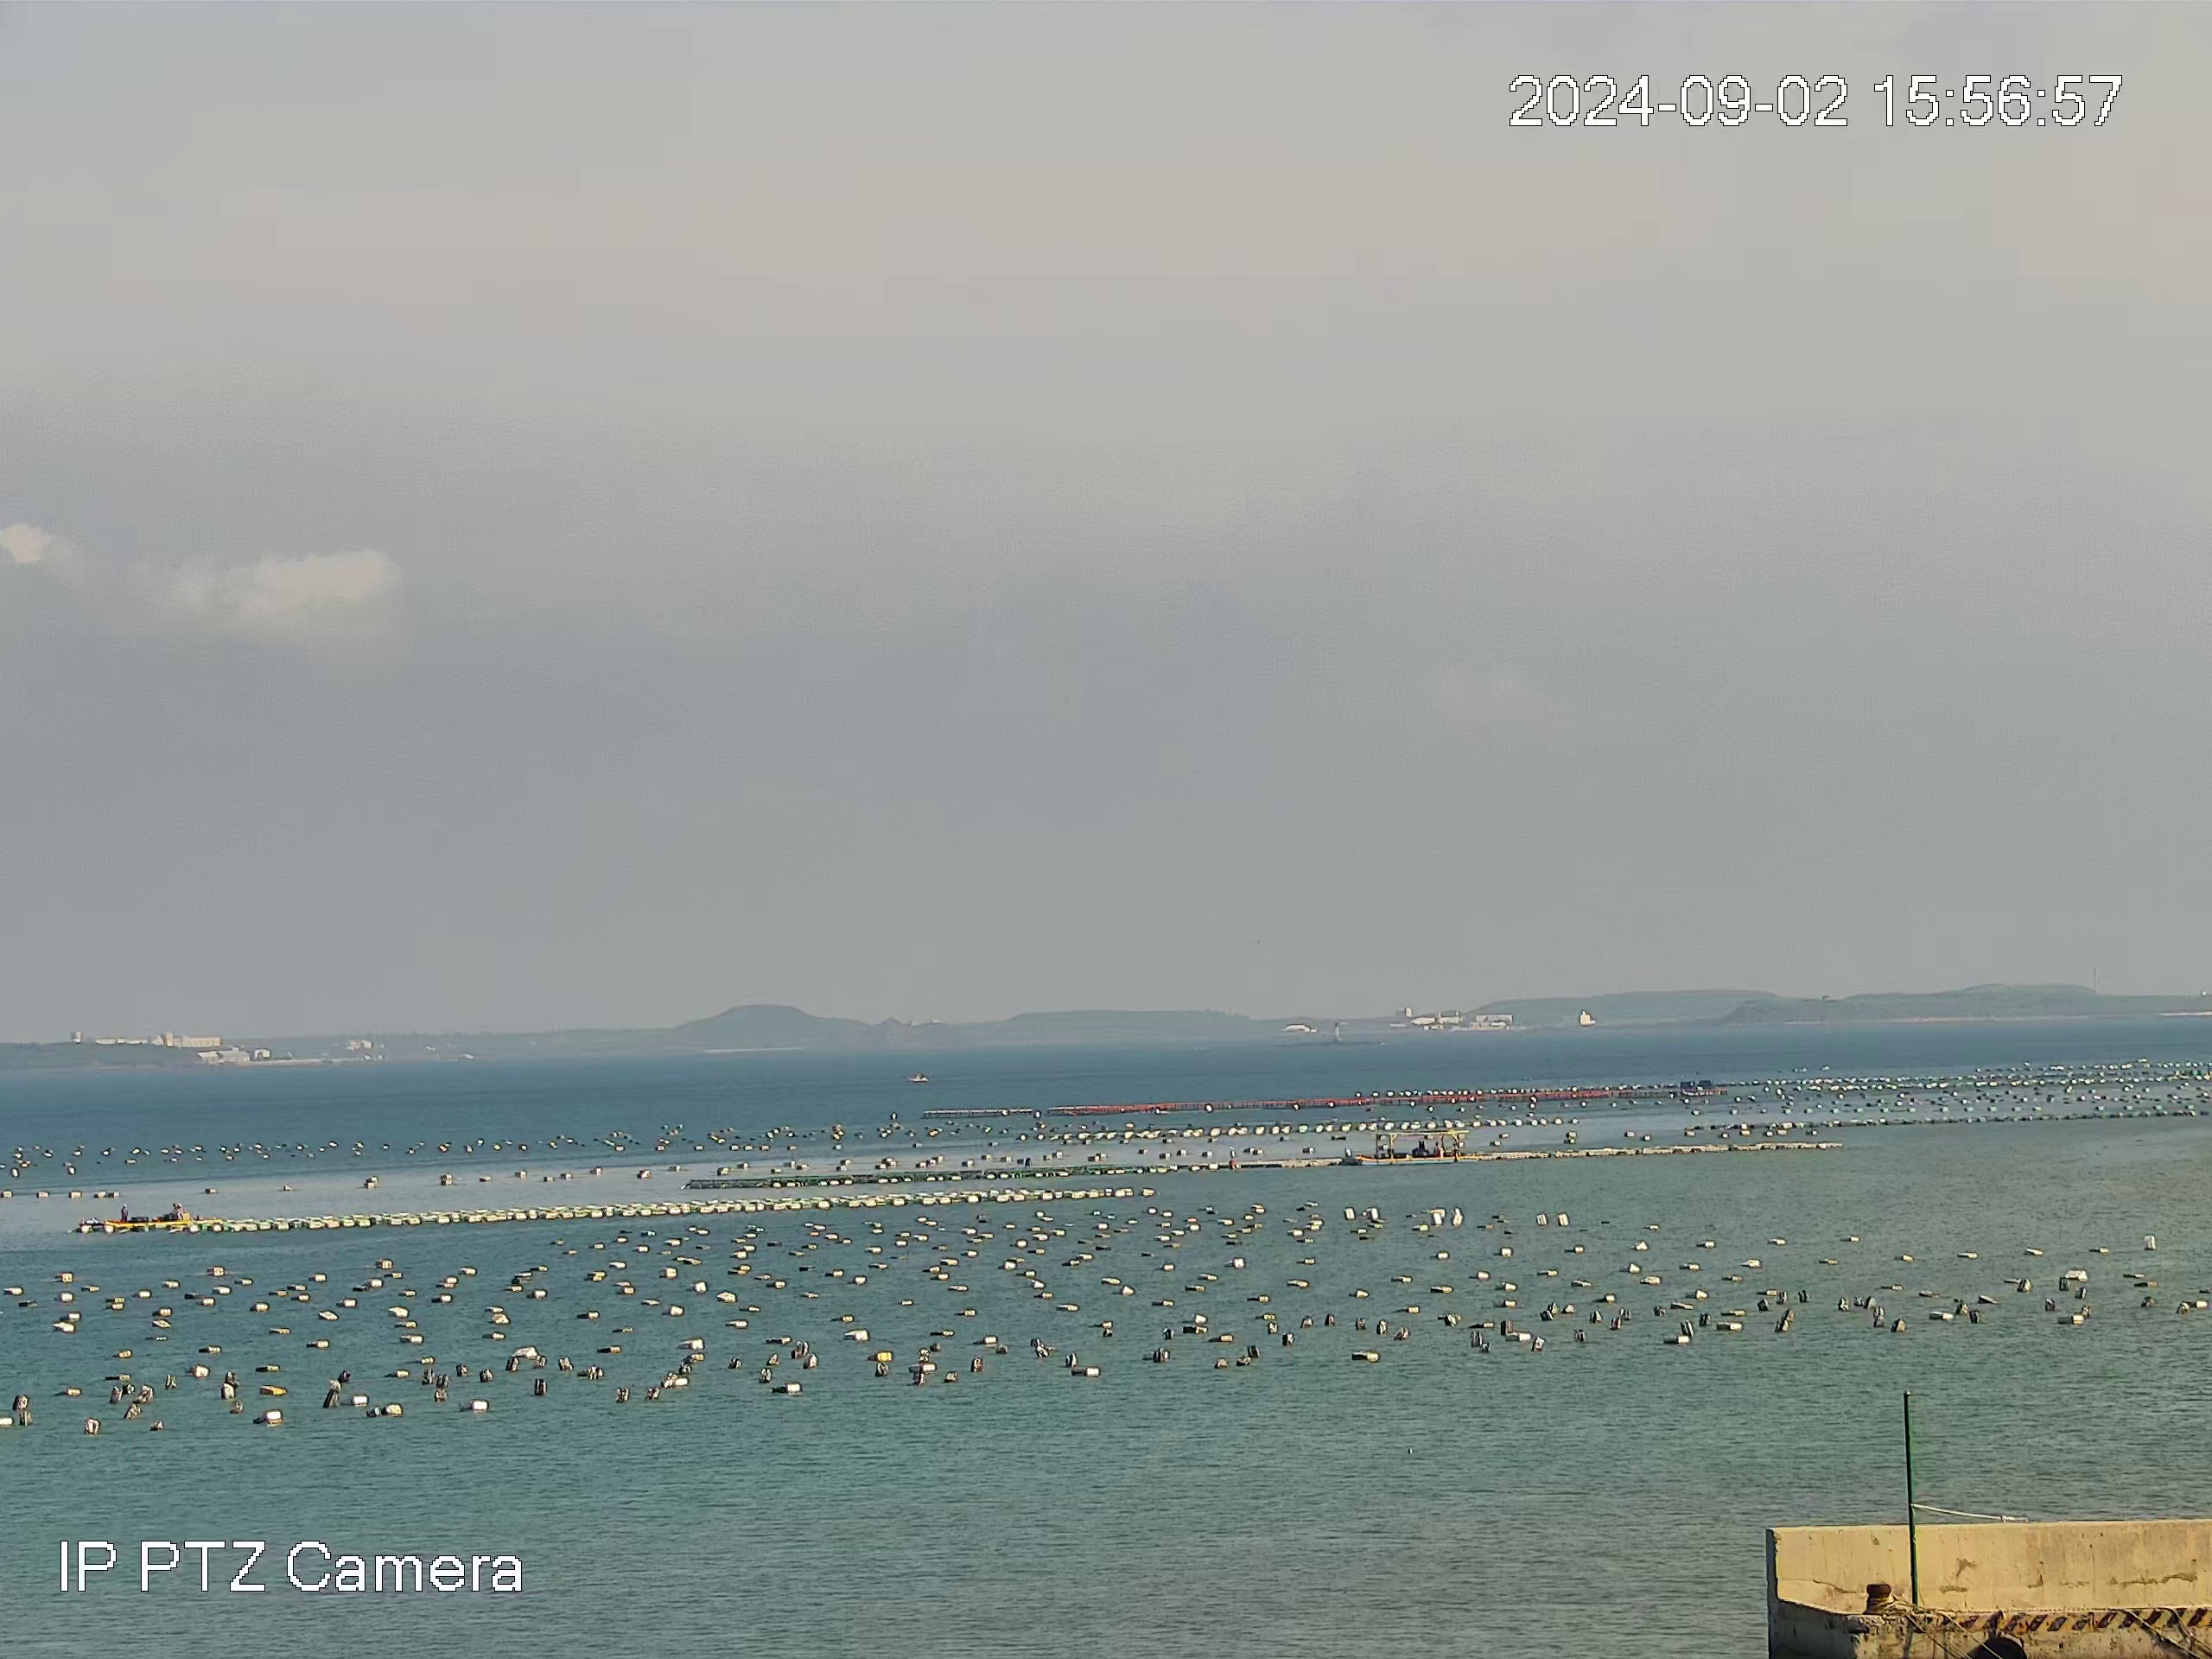boat: (1353, 1129, 1481, 1166), (102, 1201, 224, 1225), (906, 1071, 930, 1084)
